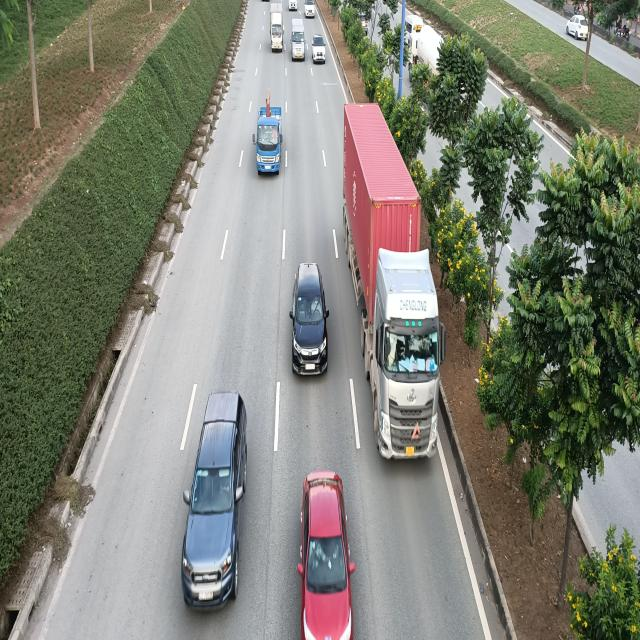car: (182, 389, 247, 609), (296, 469, 356, 635), (290, 263, 329, 377), (312, 33, 326, 63)
container: (342, 105, 446, 465)
truck: (254, 101, 282, 173), (270, 1, 284, 52)
van: (292, 17, 306, 62)
